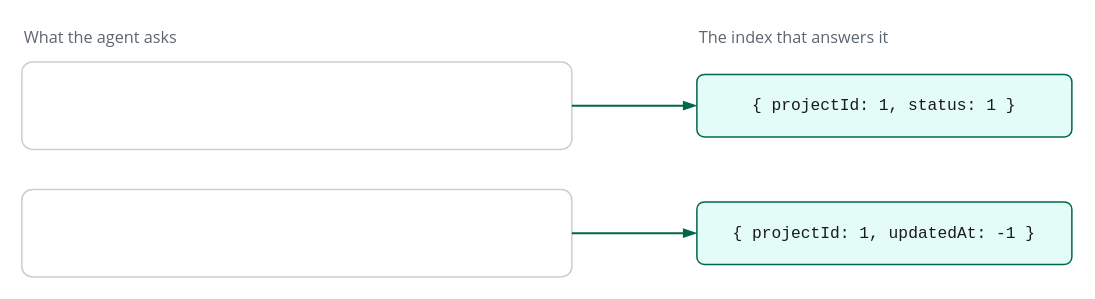
The diagram is 1095 pixels wide and 299 high, and some of its shapes have lost their labels. Here are the shapes that lost their labels. From the top down, the centre of each, then its label:
the point at 296,105: runs.find({ projectId: "project-512482", status: "training" })
the point at 296,232: runs.find({ projectId: "project-512482" }) .sort({ updatedAt: -1 }).limit(1)
